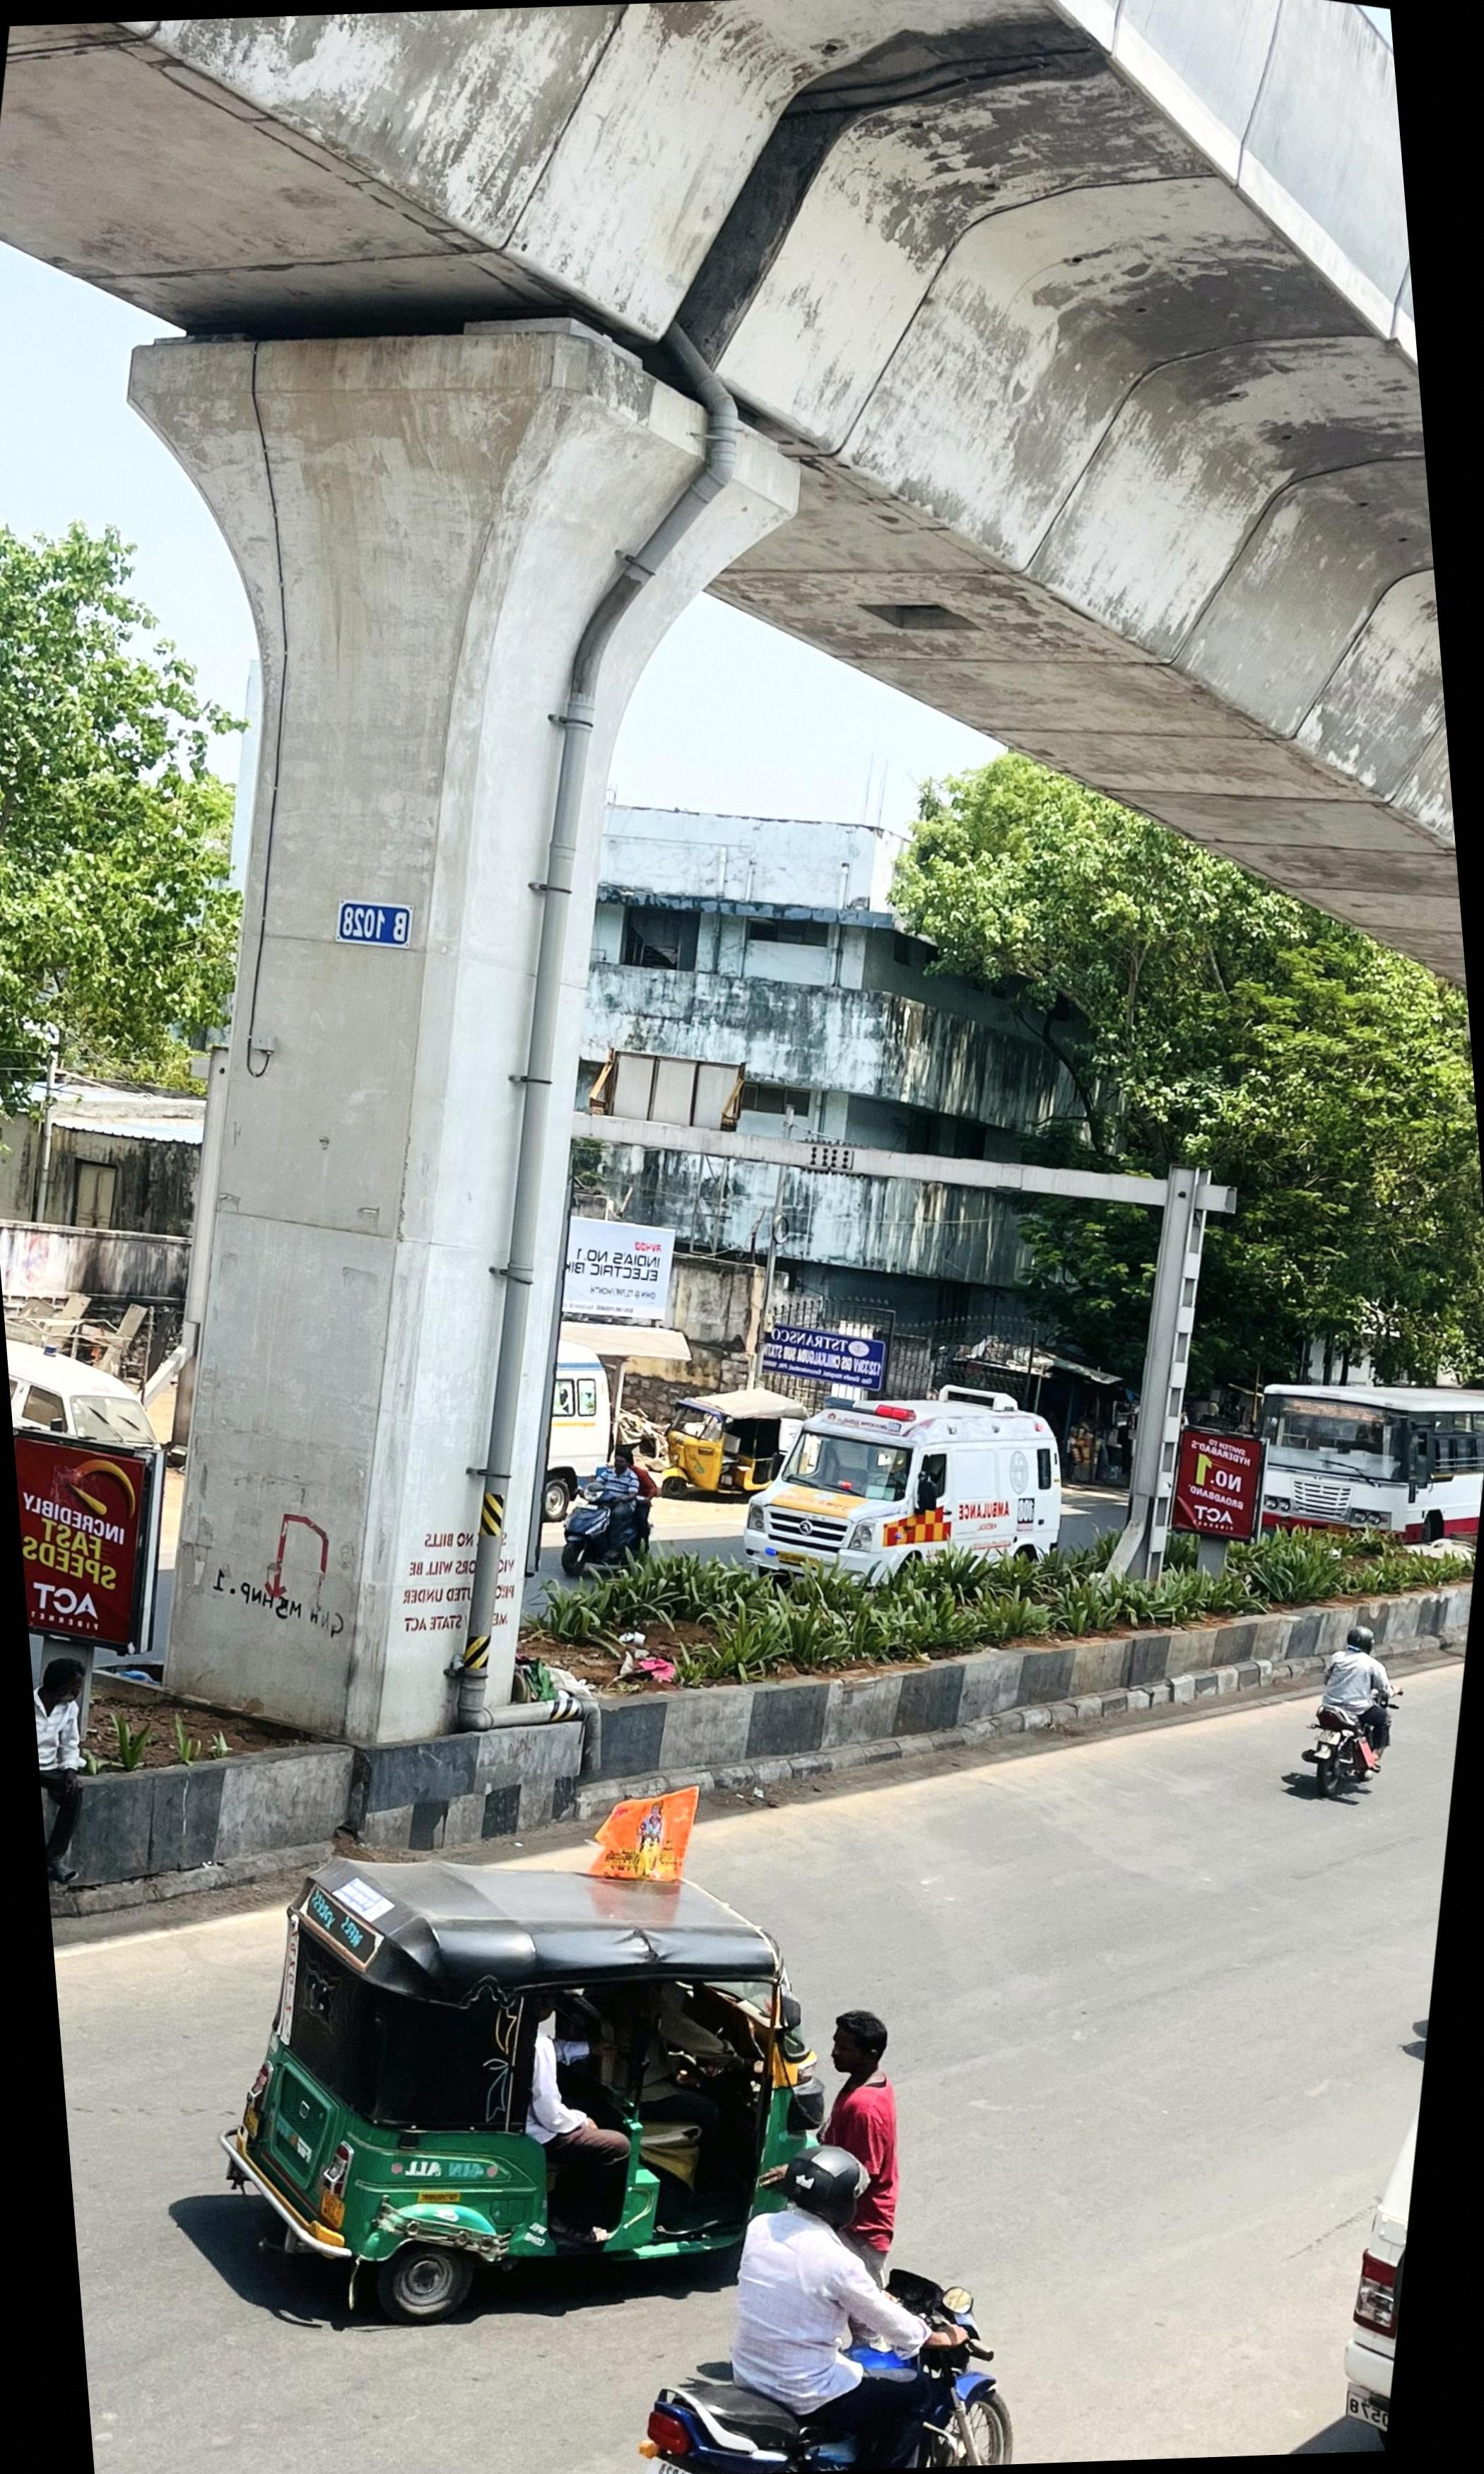ambulance: (751, 1393, 1062, 1583)
